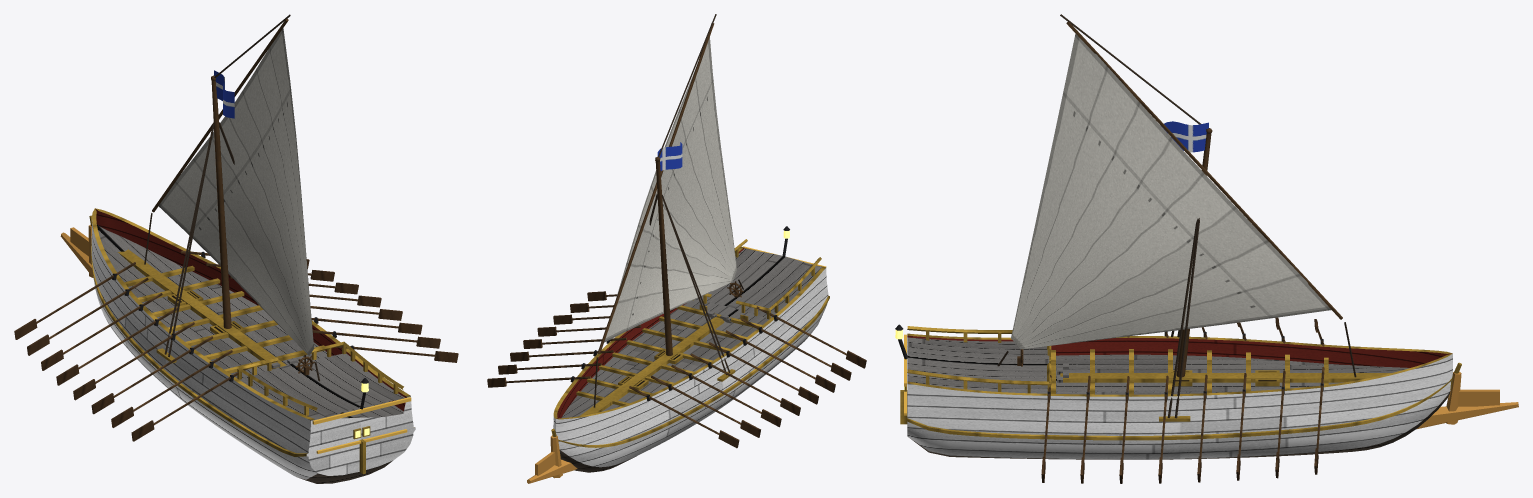
The model's file is enemy_galley.glb.
3 views of the same model, side by side, from view 1: azimuth 30°, elevation 25°; view 2: azimuth 150°, elevation 25°; view 3: azimuth 270°, elevation 25° (orthographic). The views are drawn at different scales.
Parts seen in each view (by area): view 1: Hull, Sail0_0, OarsL, Rigging, OarsR, Flag; view 2: Hull, Sail0_0, OarsL, Rigging, OarsR, Flag; view 3: Hull, Sail0_0, Rigging, OarsR, Flag.
Boxes of the visible parts, box(x1,y1,x2,y2) form: Hull: box(60, 208, 415, 483); Sail0_0: box(158, 28, 314, 355); OarsL: box(14, 262, 252, 441); Rigging: box(144, 14, 319, 381); OarsR: box(180, 250, 458, 362); Flag: box(214, 70, 234, 118); Hull: box(527, 226, 829, 483); Sail0_0: box(604, 37, 737, 342); OarsL: box(629, 306, 866, 448); Rigging: box(593, 14, 743, 407); OarsR: box(487, 291, 641, 387); Flag: box(657, 142, 682, 170); Hull: box(895, 324, 1518, 459); Sail0_0: box(1011, 33, 1331, 349); Rigging: box(997, 14, 1356, 418); OarsR: box(1041, 367, 1324, 483); Flag: box(1161, 121, 1208, 152).
Bounding box in the file's own units: 1.65 × 2.01 × 2.63.
Materials: 16 (9 with a texture image).
